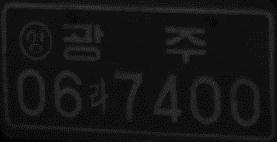0: (188, 75, 221, 126), (228, 77, 261, 128), (16, 69, 46, 117)
4: (152, 75, 182, 125)
6: (53, 70, 82, 119)
7: (112, 70, 142, 122)
광주_D: (61, 20, 208, 65)
라: (86, 77, 109, 114)
영: (18, 20, 54, 61)
